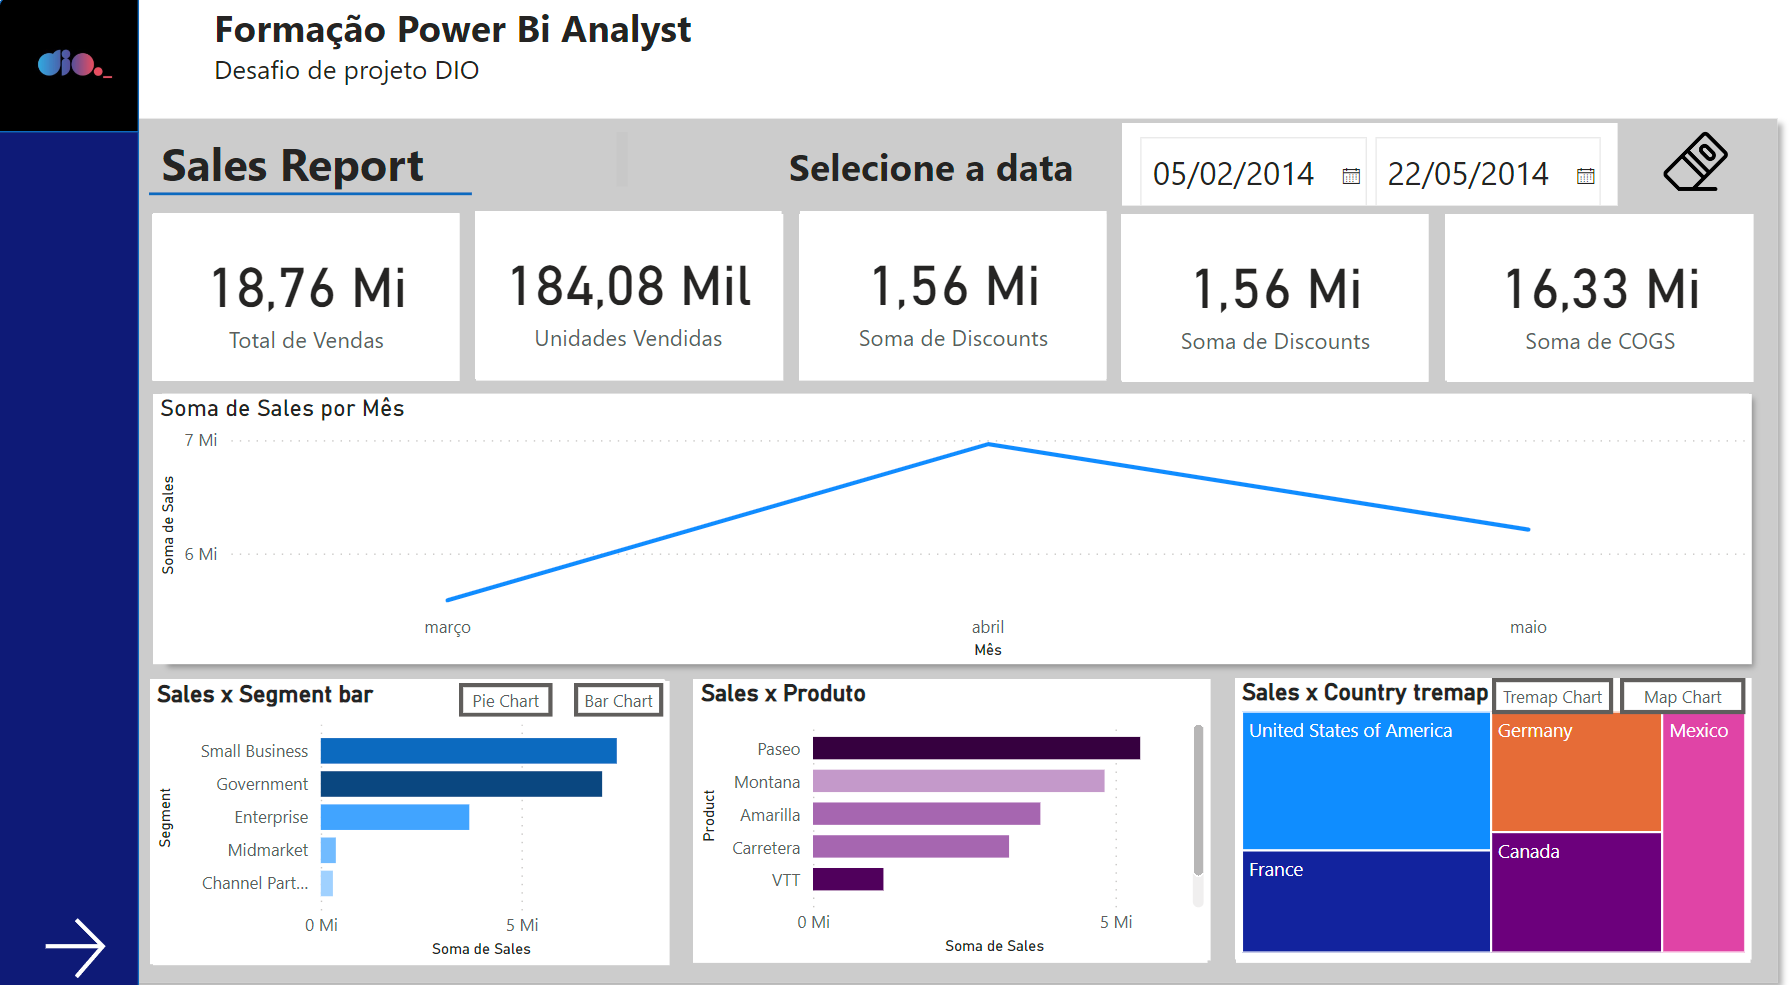

Layout of this report page (visuals, bound fields, positions):
{"tool":"powerbi","page":{"name":"Página 1","canvas":[1280,720],"ordinal":0},"visuals":[{"type":"shape","box":[0,79.8,1280,635],"z":0},{"type":"textbox","box":[559.9,99.4,232.1,47.9],"z":0,"group":"g3"},{"type":"shape","box":[107.9,113.6,230.7,58.3],"z":0,"group":"g6"},{"type":"shape","box":[109.8,156.8,219.5,119],"z":0,"group":"g2"},{"type":"shape","box":[341.4,156.8,219.5,119],"z":0,"group":"g1"},{"type":"shape","box":[0,0,100.8,720.2],"z":1000},{"type":"actionButton","box":[1162.8,90.6,94.6,59.8],"z":1000,"group":"g3"},{"type":"textbox","box":[102.8,93.3,352.3,50.7],"z":1000,"group":"g6"},{"type":"shape","box":[572.3,156.8,219.5,119],"z":1000,"group":"g1"},{"type":"treemap","title":"Sales x Country tremap","fields":{"Group":["financials.Country"],"Values":["Sum(financials. Sales)"]},"box":[883.6,489.2,369.3,201.1],"z":1000,"group":"g4"},{"type":"donutChart","title":"Sales x Segment Pie","fields":{"Category":["financials.Segment"],"Y":["Sum(financials. Sales)"]},"box":[110.9,490.4,369,203.5],"z":1000,"group":"g5"},{"type":"actionButton","title":"Botão Tremap","box":[1158.5,488.9,89.6,25.8],"z":1250,"group":"g4"},{"type":"actionButton","title":"Botão Map","box":[1067.4,488.9,86.5,25.8],"z":1500,"group":"g4"},{"type":"clusteredBarChart","title":"Sales x Segment bar","fields":{"Category":["financials.Segment"],"Y":["Sum(financials. Sales)"]},"box":[108.7,489.9,368.3,202.6],"z":1500,"group":"g5"},{"type":"shape","box":[0,0,100.8,98.9],"z":2000},{"type":"image","title":"Clean","box":[1155.8,91.2,114.1,55.8],"z":2000,"group":"g3"},{"type":"shape","box":[109,489.2,367.5,202.8],"z":2000,"group":"g1"},{"type":"actionButton","title":"Botão Bar","box":[411.5,492,63.8,24.3],"z":2000,"group":"g5"},{"type":"actionButton","title":"Botão Pie","box":[329.5,492,66.8,24.3],"z":2500,"group":"g5"},{"type":"image","title":"Logo_dio","box":[0,7.5,110.1,85.8],"z":3000},{"type":"shape","box":[496.8,489.2,367.5,202.8],"z":3000,"group":"g1"},{"type":"shape","box":[110.1,0,1169.9,63.4],"z":4000},{"type":"shape","box":[108.7,276.3,1151.1,210],"z":4000,"group":"g1"},{"type":"textbox","box":[149.3,0,395.6,85.8],"z":5000},{"type":"shape","box":[802.5,156.8,219.5,119],"z":5000,"group":"g1"},{"type":"group","id":"g1","title":"Cartoes","box":[108.7,154.7,1151.1,537.3],"z":6000},{"type":"shape","box":[1033.4,156.8,219.5,119],"z":6000,"group":"g1"},{"type":"card","fields":{"Values":["Sum(financials.COGS)"]},"box":[1035.1,156.5,219.2,119.7],"z":7000,"group":"g1"},{"type":"shape","box":[884.6,489.2,367.5,202.8],"z":7000},{"type":"card","fields":{"Values":["Sum(financials.Discounts)"]},"box":[572.8,154.7,219.2,119.7],"z":8000,"group":"g1"},{"type":"lineChart","fields":{"Y":["Sum(financials. Sales)"],"Category":["financials.Date.Variation.Hierarquia de datas.Mês"]},"box":[110.5,285.5,1141.9,193.4],"z":8000},{"type":"card","fields":{"Values":["Sum(financials.Units Sold)"]},"box":[340.8,154.7,219.2,119.7],"z":9000,"group":"g1"},{"type":"card","fields":{"Values":["Sum(financials. Sales)"]},"box":[110.5,156.5,219.2,119.7],"z":9000},{"type":"card","fields":{"Values":["Sum(financials.Discounts)"]},"box":[803,156.5,219.2,119.7],"z":10000,"group":"g1"},{"type":"clusteredBarChart","title":"Sales x Produto","fields":{"Y":["Sum(financials. Sales)"],"Category":["financials.Product"]},"box":[496.9,489.2,369.3,201.1],"z":10000},{"type":"slicer","fields":{"Values":["financials.Date"]},"box":[803,92.1,353.6,58.9],"z":11000},{"type":"group","id":"g2","title":"Cartoes","box":[109.8,156.8,219.5,119],"z":11000,"group":"g1"},{"type":"group","id":"g3","title":"Filtro por data","box":[559.9,90.6,710,59.8],"z":12000},{"type":"group","id":"g4","title":"Sales x pais","box":[883.6,488.9,369.3,203.6],"z":13000},{"type":"group","id":"g5","title":"Sales x Segmento","box":[108.7,489.9,371.1,204],"z":14000},{"type":"group","id":"g6","title":"Title report","box":[102.8,93.3,352.3,78.6],"z":15000},{"type":"actionButton","box":[27.3,654.4,71.4,54.7],"z":16000}]}

Visuals, with their boxes in screenshot pixels (x1, y1, x2, y2), scaled from the page's 1280x720 canvas onto the 1789x985 screenshot:
shape: {"left": 0, "top": 109, "right": 1788, "bottom": 978}
textbox: {"left": 783, "top": 136, "right": 1107, "bottom": 202}
shape: {"left": 151, "top": 155, "right": 473, "bottom": 235}
shape: {"left": 153, "top": 215, "right": 460, "bottom": 377}
shape: {"left": 477, "top": 215, "right": 784, "bottom": 377}
shape: {"left": 0, "top": 0, "right": 141, "bottom": 984}
actionButton: {"left": 1625, "top": 124, "right": 1757, "bottom": 206}
textbox: {"left": 144, "top": 128, "right": 636, "bottom": 197}
shape: {"left": 800, "top": 215, "right": 1107, "bottom": 377}
"Sales x Country tremap" treemap: {"left": 1235, "top": 669, "right": 1751, "bottom": 944}
"Sales x Segment Pie" donutChart: {"left": 155, "top": 671, "right": 671, "bottom": 949}
"Botão Tremap" actionButton: {"left": 1619, "top": 669, "right": 1744, "bottom": 704}
"Botão Map" actionButton: {"left": 1492, "top": 669, "right": 1613, "bottom": 704}
"Sales x Segment bar" clusteredBarChart: {"left": 152, "top": 670, "right": 667, "bottom": 947}
shape: {"left": 0, "top": 0, "right": 141, "bottom": 135}
"Clean" image: {"left": 1615, "top": 125, "right": 1775, "bottom": 201}
shape: {"left": 152, "top": 669, "right": 666, "bottom": 947}
"Botão Bar" actionButton: {"left": 575, "top": 673, "right": 664, "bottom": 706}
"Botão Pie" actionButton: {"left": 461, "top": 673, "right": 554, "bottom": 706}
"Logo_dio" image: {"left": 0, "top": 10, "right": 154, "bottom": 128}
shape: {"left": 694, "top": 669, "right": 1208, "bottom": 947}
shape: {"left": 154, "top": 0, "right": 1788, "bottom": 87}
shape: {"left": 152, "top": 378, "right": 1761, "bottom": 665}
textbox: {"left": 209, "top": 0, "right": 762, "bottom": 117}
shape: {"left": 1122, "top": 215, "right": 1428, "bottom": 377}
"Cartoes" group: {"left": 152, "top": 212, "right": 1761, "bottom": 947}
shape: {"left": 1444, "top": 215, "right": 1751, "bottom": 377}
card - Sum(financials.COGS): {"left": 1447, "top": 214, "right": 1753, "bottom": 378}
shape: {"left": 1236, "top": 669, "right": 1750, "bottom": 947}
card - Sum(financials.Discounts): {"left": 801, "top": 212, "right": 1107, "bottom": 375}
lineChart - Sum(financials. Sales) x financials.Date.Variation.Hierarquia de datas.Mês: {"left": 154, "top": 391, "right": 1750, "bottom": 655}
card - Sum(financials.Units Sold): {"left": 476, "top": 212, "right": 783, "bottom": 375}
card - Sum(financials. Sales): {"left": 154, "top": 214, "right": 461, "bottom": 378}
card - Sum(financials.Discounts): {"left": 1122, "top": 214, "right": 1429, "bottom": 378}
"Sales x Produto" clusteredBarChart: {"left": 694, "top": 669, "right": 1211, "bottom": 944}
slicer - financials.Date: {"left": 1122, "top": 126, "right": 1617, "bottom": 207}
"Cartoes" group: {"left": 153, "top": 215, "right": 460, "bottom": 377}
"Filtro por data" group: {"left": 783, "top": 124, "right": 1775, "bottom": 206}
"Sales x pais" group: {"left": 1235, "top": 669, "right": 1751, "bottom": 947}
"Sales x Segmento" group: {"left": 152, "top": 670, "right": 671, "bottom": 949}
"Title report" group: {"left": 144, "top": 128, "right": 636, "bottom": 235}
actionButton: {"left": 38, "top": 895, "right": 138, "bottom": 970}
